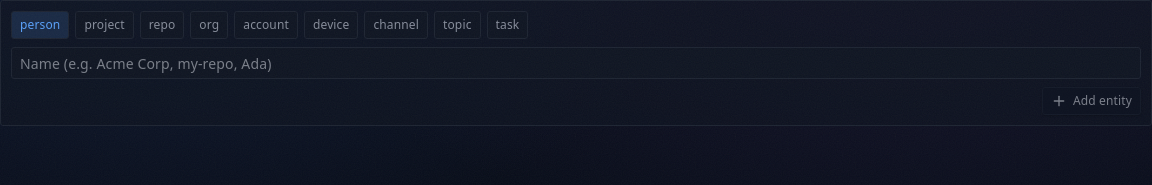
WorldAddForm › disables Add until a name is entered
Expected: the button "Add entity" is disabled, [1042,87,1141,115]
Type "Acme" into the field named "Entity name" at coordinates (576, 63), box [11,47,1141,79]
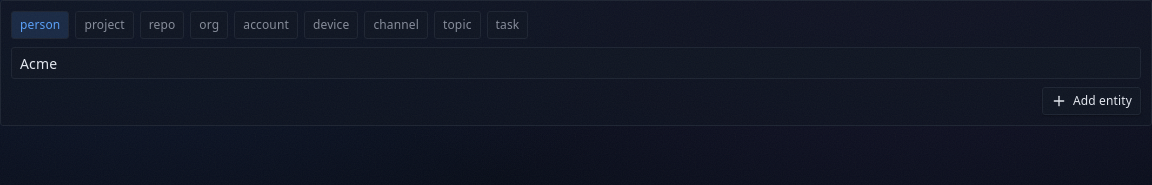
Now the button "Add entity" is enabled, box [1042,87,1141,115]
